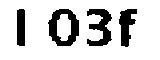0: (43, 7, 80, 49)
3: (84, 8, 113, 48)
f: (116, 8, 140, 49)
l: (13, 6, 35, 52)
